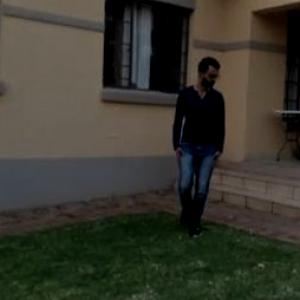follow: (174, 51, 228, 240)
